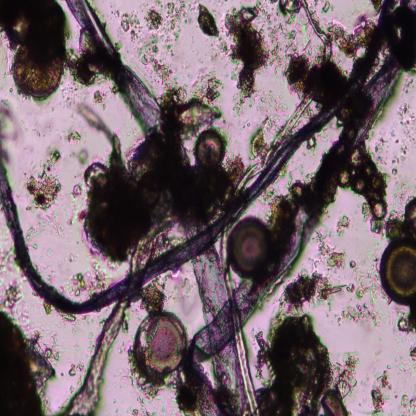Background material: (82, 150, 180, 252), (253, 309, 328, 415), (0, 0, 70, 104), (0, 307, 57, 415), (177, 154, 253, 224), (224, 3, 269, 107), (121, 6, 174, 86), (156, 73, 220, 130), (288, 51, 348, 99), (24, 152, 64, 212), (280, 276, 346, 310), (269, 180, 306, 240), (266, 2, 314, 48), (326, 350, 356, 414), (73, 36, 106, 88), (330, 16, 378, 50), (252, 86, 287, 128), (393, 104, 416, 166), (384, 196, 416, 240), (27, 213, 65, 245), (368, 364, 391, 415), (336, 303, 388, 325), (163, 1, 195, 36), (69, 265, 106, 294), (133, 374, 171, 402), (346, 268, 381, 297), (315, 236, 345, 269), (0, 107, 22, 152), (196, 3, 220, 38), (246, 124, 270, 156), (143, 285, 165, 316), (0, 278, 19, 312), (377, 130, 390, 166), (398, 312, 416, 335), (397, 394, 416, 414), (335, 214, 350, 234), (68, 363, 82, 382), (64, 129, 82, 143), (77, 148, 88, 164), (45, 246, 56, 260), (71, 184, 82, 198), (408, 347, 416, 364), (390, 166, 400, 177), (308, 137, 317, 148), (350, 260, 357, 270)
Cellulose filter fibre: (233, 0, 332, 194), (62, 302, 127, 416), (221, 229, 260, 414)
Cotton: (0, 4, 416, 314), (67, 1, 245, 415)
Diatom: (133, 312, 187, 376), (377, 237, 416, 308), (228, 215, 274, 272), (353, 153, 388, 219), (194, 128, 226, 169)
